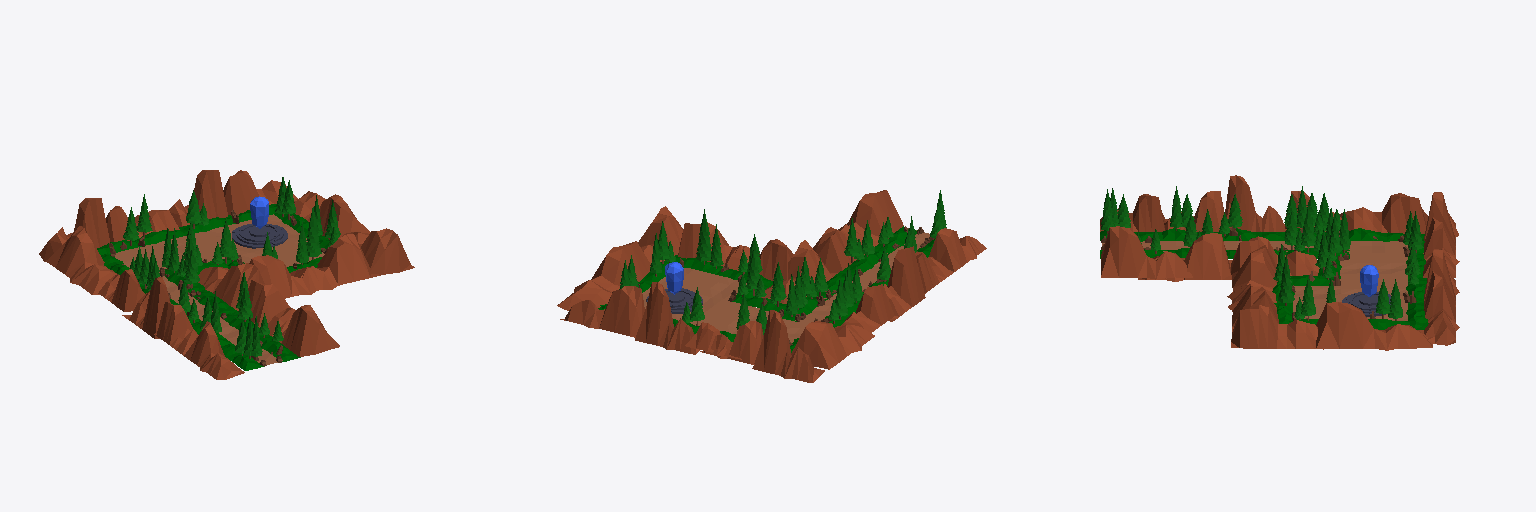
Rendered from Game_Level_Scene_Low_Poly.obj.
3 renders of one model, left to right at view 1: azimuth 30°, elevation 25°; view 2: azimuth 150°, elevation 25°; view 3: azimuth 270°, elevation 25°, orthographic.
Visible parts, largest first — view 1: rectangle[number redacted], rectangle1124, rectangle[number redacted], rectangle[number redacted], rectangle[number redacted], rectangle112412, rectangle1123, rectangle11211, rectangle11241, rectangle112111, rectangle[number redacted], rectangle[number redacted] (+6 smaller); view 2: rectangle[number redacted], rectangle[number redacted], rectangle11211, rectangle[number redacted], rectangle1124, rectangle112111, rectangle1121, rectangle[number redacted], rectangle1123, rectangle112, rectangle1125, rectangle112411 (+6 smaller); view 3: rectangle[number redacted], rectangle[number redacted], rectangle[number redacted], rectangle[number redacted], rectangle1124, rectangle112411, rectangle[number redacted], rectangle1121, rectangle112412, rectangle11241, rectangle1123, rectangle1122 (+5 smaller).
Boxes of the visible parts, box(x1,y1,x2,y2) form: rectangle[number redacted]: box(115, 214, 324, 364); rectangle1124: box(46, 226, 116, 294); rectangle[number redacted]: box(254, 305, 339, 356); rectangle[number redacted]: box(290, 234, 372, 295); rectangle[number redacted]: box(342, 228, 414, 276); rectangle112412: box(249, 255, 339, 298); rectangle1123: box(184, 321, 244, 379); rectangle11211: box(39, 198, 109, 262); rectangle11241: box(198, 263, 264, 310); rectangle112111: box(169, 170, 227, 226); rectangle[number redacted]: box(294, 191, 370, 239); rectangle[number redacted]: box(223, 170, 297, 215); rectangle[number redacted]: box(642, 230, 929, 342); rectangle[number redacted]: box(560, 286, 644, 337); rectangle11211: box(752, 310, 824, 382); rectangle[number redacted]: box(557, 241, 650, 310); rectangle1124: box(791, 321, 874, 369); rectangle112111: box(635, 282, 699, 354); rectangle1121: box(884, 246, 925, 321); rectangle[number redacted]: box(838, 190, 903, 259); rectangle1123: box(929, 228, 986, 271); rectangle112: box(842, 284, 894, 332); rectangle1125: box(700, 321, 763, 364); rectangle112411: box(813, 227, 863, 274); rectangle[number redacted]: box(1102, 241, 1407, 320); rectangle[number redacted]: box(1316, 302, 1432, 350); rectangle[number redacted]: box(1101, 226, 1192, 279); rectangle[number redacted]: box(1231, 305, 1323, 349); rectangle1124: box(1339, 193, 1427, 233); rectangle112411: box(1138, 233, 1230, 281); rectangle[number redacted]: box(1424, 270, 1459, 345); rectangle1121: box(1225, 175, 1285, 231); rectangle112412: box(1227, 245, 1277, 311); rectangle11241: box(1231, 236, 1319, 279); rectangle1123: box(1100, 194, 1164, 231); rectangle1122: box(1164, 191, 1223, 231).
Size of the model in its own units: 18.49 by 4.42 by 20.58.